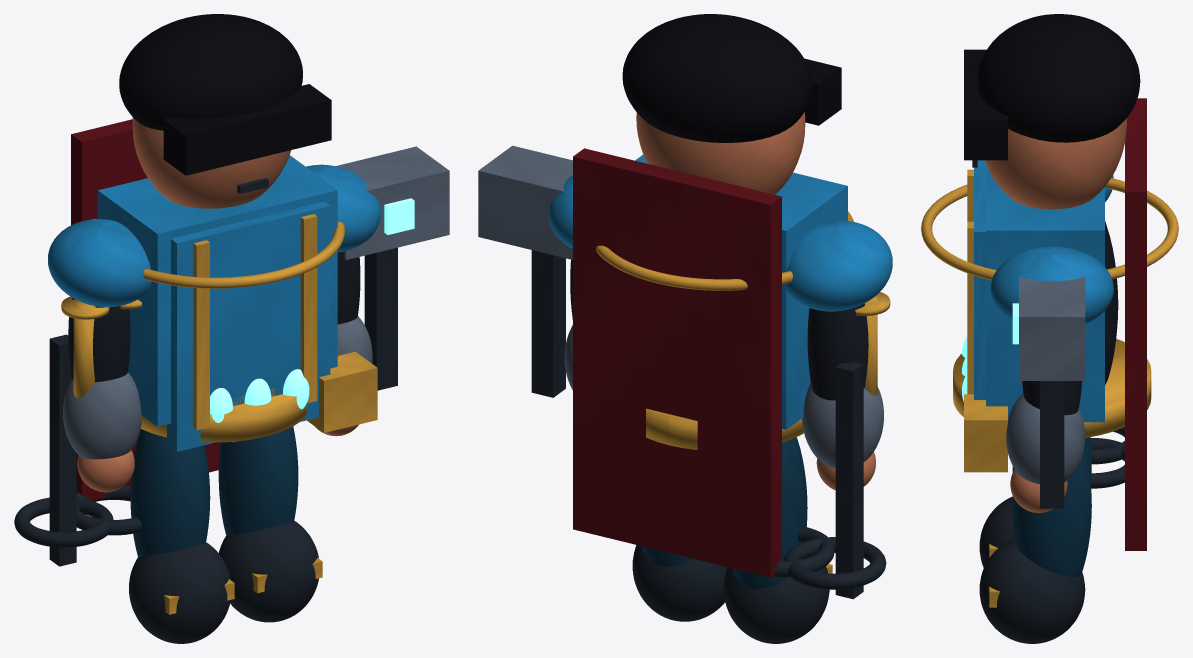
Rendered from Specialization.glb.
The picture shows the model from 3 angles, left to right: view 1: azimuth 30°, elevation 25°; view 2: azimuth 150°, elevation 25°; view 3: azimuth 270°, elevation 25°; orthographic projection. The views are drawn at different scales.
Parts seen in each view (by area): view 1: MerchantVest, Hair, ChestPlate, HairFringe, Leg, Boot, Boot.001, Leg.001, Shoulder, HammerHead, Cape, Head (+19 smaller); view 2: Cape, Hair, HammerHead, Shoulder, Head, ChestPlate, CartHandle, Boot, HammerHandle, Boot.001, Arm, Gauntlet (+9 smaller); view 3: Hair, ChestPlate, Cape, Head, Boot.001, HammerHead, Leg.001, Shoulder.001, Gauntlet.001, HairFringe, HammerHandle, CoinPouch (+10 smaller).
Part boxes in pixels (left/top/right/bottom): MerchantVest: left=167, top=201, right=330, bottom=451; Hair: left=119, top=14, right=302, bottom=130; ChestPlate: left=97, top=155, right=337, bottom=426; HairFringe: left=163, top=84, right=331, bottom=175; Leg: left=130, top=429, right=210, bottom=556; Boot: left=129, top=542, right=230, bottom=643; Boot.001: left=218, top=521, right=318, bottom=622; Leg.001: left=218, top=426, right=298, bottom=535; Shoulder: left=48, top=219, right=151, bottom=307; HammerHead: left=336, top=146, right=449, bottom=259; Cape: left=71, top=119, right=220, bottom=500; Head: left=132, top=117, right=291, bottom=208; Cape: left=573, top=148, right=781, bottom=577; Hair: left=622, top=14, right=812, bottom=142; HammerHead: left=478, top=145, right=572, bottom=259; Shoulder: left=784, top=220, right=892, bottom=311; Head: left=636, top=112, right=805, bottom=194; ChestPlate: left=635, top=155, right=847, bottom=429; CartHandle: left=835, top=362, right=863, bottom=599; Boot: left=723, top=556, right=829, bottom=643; HammerHandle: left=531, top=250, right=565, bottom=397; Boot.001: left=632, top=545, right=727, bottom=621; Arm: left=807, top=303, right=868, bottom=400; Gauntlet: left=802, top=382, right=883, bottom=467; Hair: left=977, top=14, right=1140, bottom=142; ChestPlate: left=986, top=164, right=1104, bottom=422; Cape: left=1125, top=98, right=1146, bottom=550; Head: left=984, top=118, right=1126, bottom=209; Boot.001: left=979, top=538, right=1085, bottom=643; HammerHead: left=1019, top=276, right=1085, bottom=380; Leg.001: left=1012, top=447, right=1091, bottom=577; Shoulder.001: left=990, top=246, right=1113, bottom=324; Gauntlet.001: left=1006, top=393, right=1085, bottom=484; HairFringe: left=964, top=49, right=1007, bottom=160; HammerHandle: left=1040, top=381, right=1064, bottom=508; CoinPouch: left=964, top=394, right=1007, bottom=472.
Bounding box in the file's own units: 2.05 × 2.96 × 1.17.
12 materials, 9 textured.
